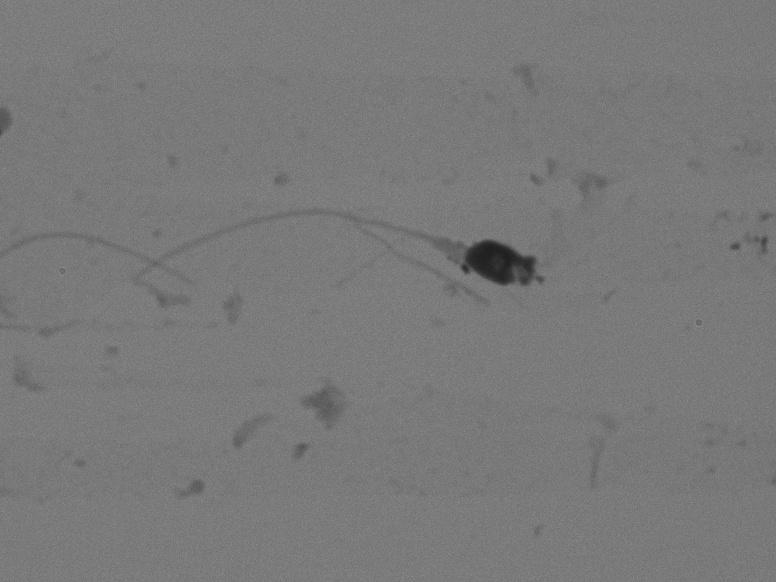Abnormal: (134, 161, 575, 375)
